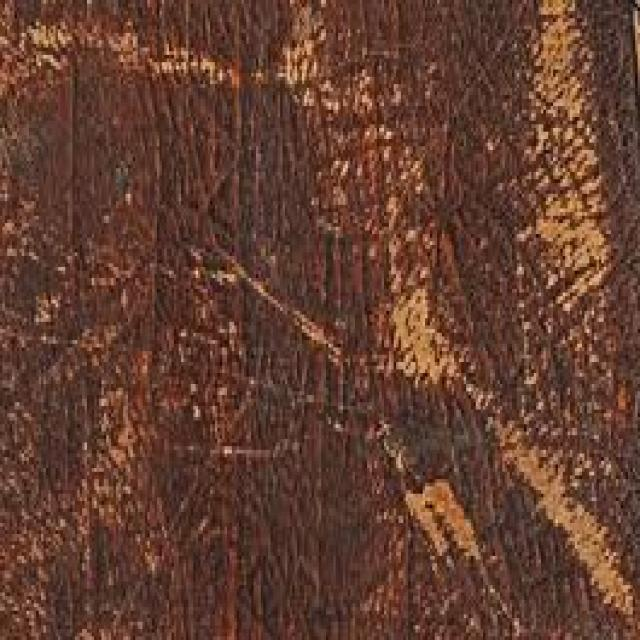Rotten surface: (522, 28, 626, 329), (495, 408, 618, 594), (389, 452, 489, 588), (380, 259, 460, 396)
